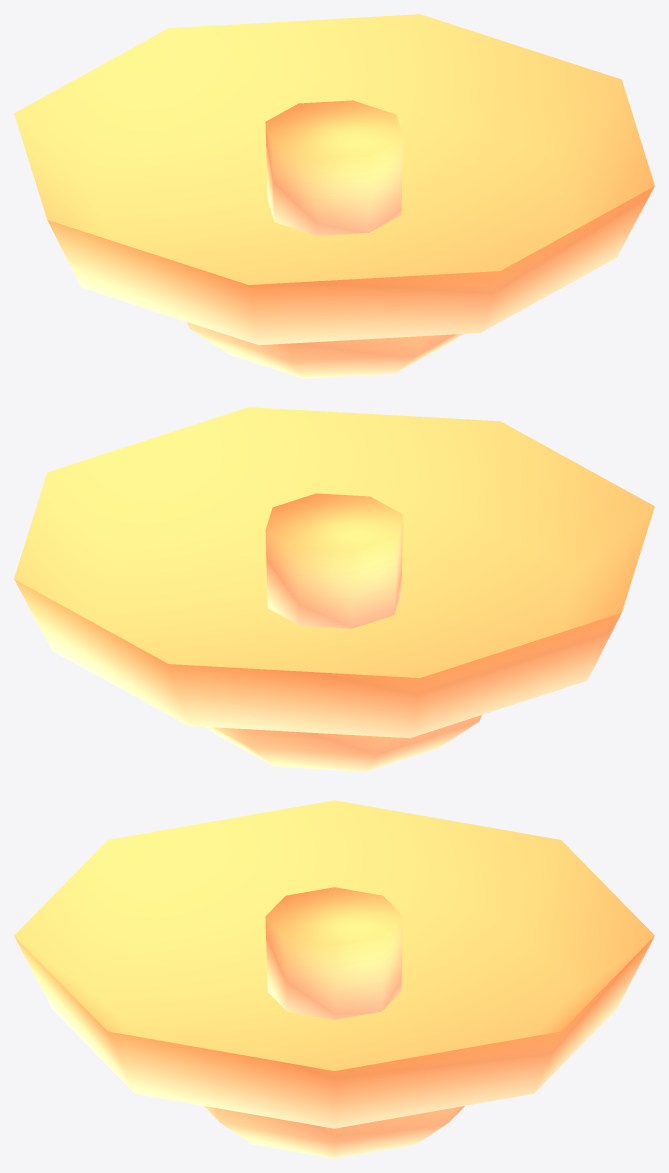
Rendered from wood_pommel_167_004.glb.
The picture shows the model from 3 angles, top to bottom: view 1: azimuth 30°, elevation 25°; view 2: azimuth 150°, elevation 25°; view 3: azimuth 270°, elevation 25°; orthographic projection. The views are drawn at different scales.
Visible parts, largest first — view 1: wood_pommel_167.004; view 2: wood_pommel_167.004; view 3: wood_pommel_167.004.
Boxes of the visible parts, box(x1,y1,x2,y2) form: wood_pommel_167.004: box(14, 14, 654, 378); wood_pommel_167.004: box(14, 407, 654, 771); wood_pommel_167.004: box(14, 800, 654, 1158).
Bounding box in the file's own units: 2.4 × 0.8521 × 2.4.
1 material, 1 textured.
